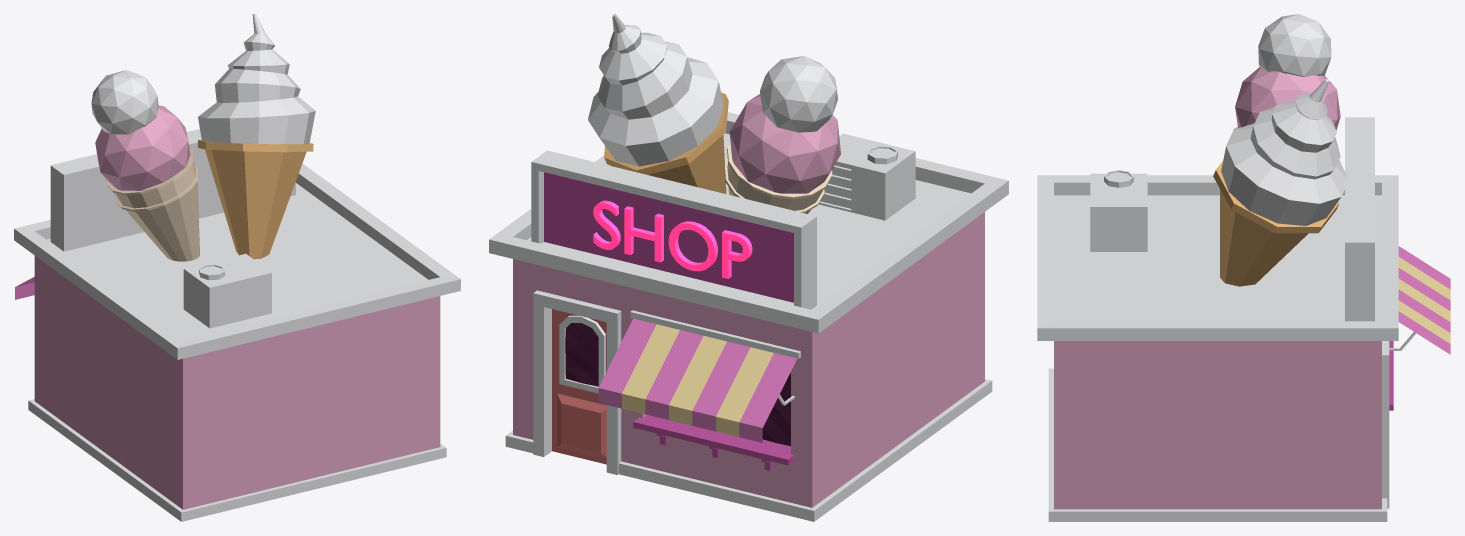
The model's file is shop-candy-a_night.glb.
3 views of the same model, side by side, from view 1: azimuth 30°, elevation 25°; view 2: azimuth 150°, elevation 25°; view 3: azimuth 270°, elevation 25° (orthographic). The views are drawn at different scales.
Visible parts, largest first — view 1: Object_8, Object_11, Object_5, Object_6; view 2: Object_11, Object_8, Object_9, Object_2, Object_3, Object_7, sign_letters, Object_5, Object_4, Object_6; view 3: Object_11, Object_8, Object_5, Object_2, Object_3.
Boxes of the visible parts, x1,y1,x2,y2 form: Object_8: (34,105,440,509); Object_11: (14,14,460,521); Object_5: (198,140,313,259); Object_6: (106,146,199,261); Object_11: (489,14,1008,521); Object_8: (513,94,984,507); Object_9: (544,172,794,470); Object_2: (598,318,796,442); Object_3: (622,324,773,436); Object_7: (552,309,606,464); sign_letters: (593,200,752,278); Object_5: (604,92,728,194); Object_4: (565,323,790,446); Object_6: (724,143,832,213); Object_11: (1037,14,1416,521); Object_8: (1054,67,1381,509); Object_5: (1213,160,1339,286); Object_2: (1398,246,1450,354); Object_3: (1398,257,1450,343).
Size of the model in its own units: 4.41 by 5.47 by 5.04.
